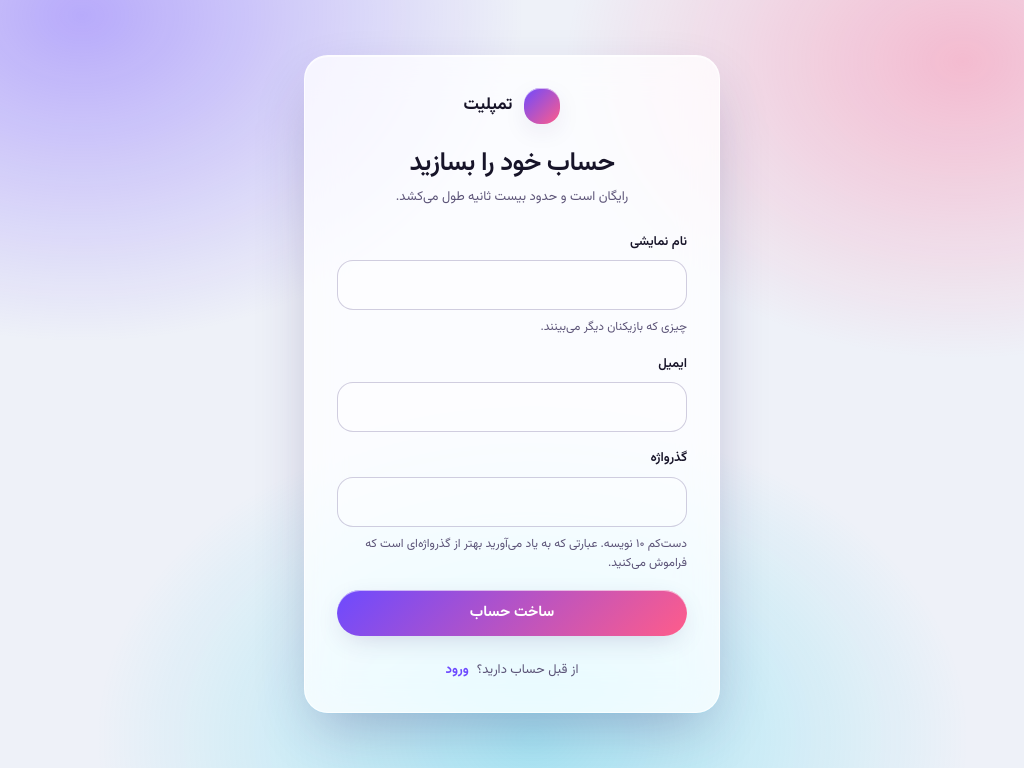
it: client-side validation › ★ renders the same refusal in Persian — never English prose
Type "مهرنگ" into the field labelled "نام نمایشی" at (512, 285), box [337,260,687,310]
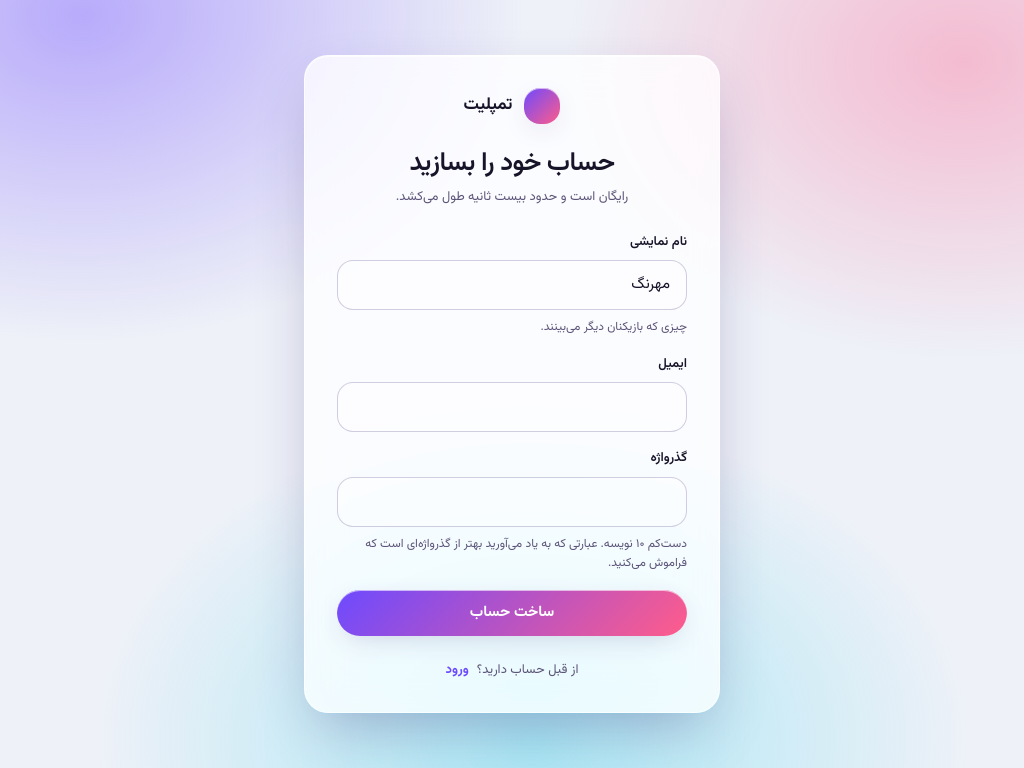
Type "me@test.dev" into the field labelled "ایمیل" at (512, 407), box [337,382,687,432]
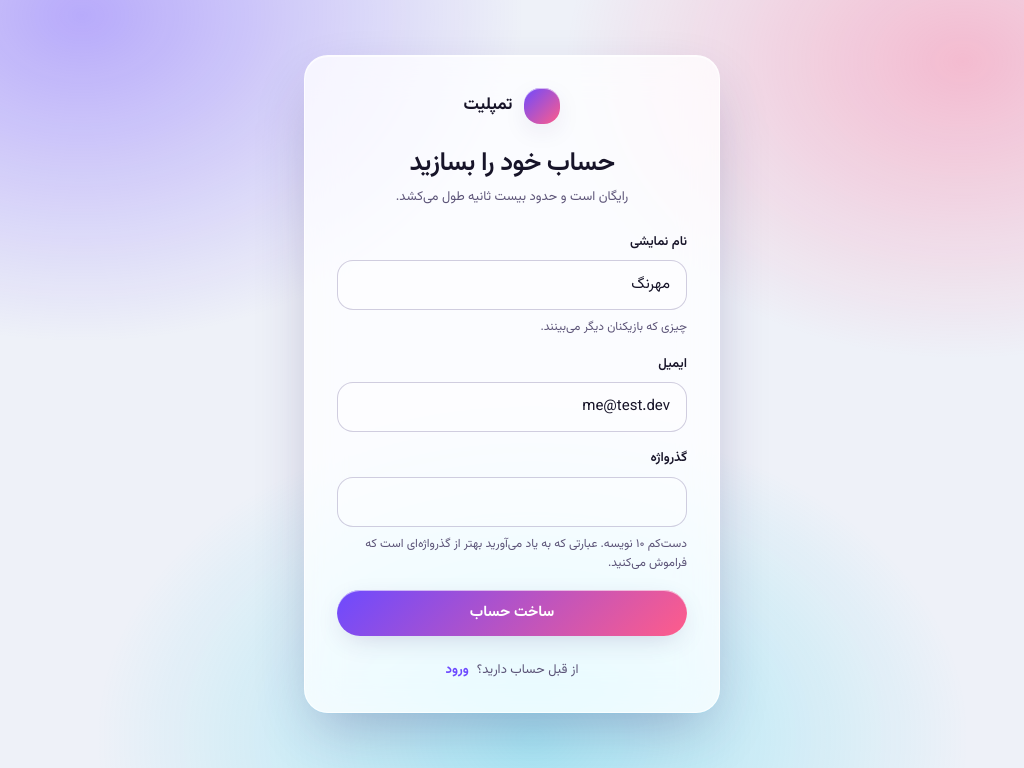
Type "short" into the password field labelled "گذرواژه" at (512, 502), box [337,477,687,527]
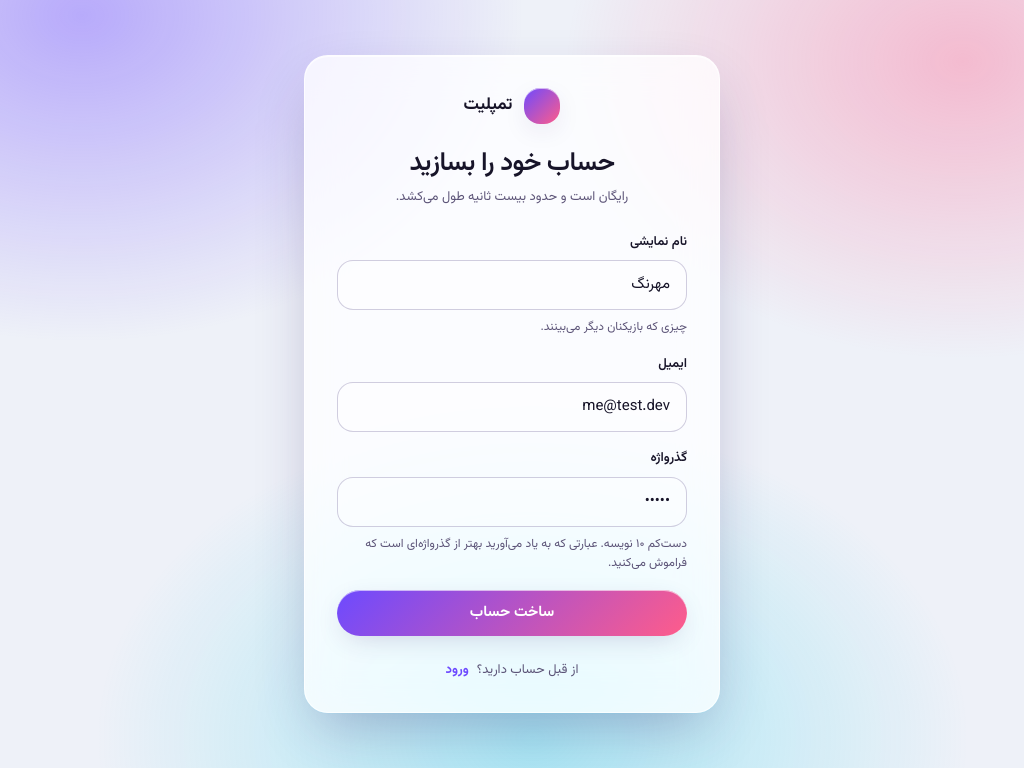
Submit the form from the button "ساخت حساب", box [337,590,687,636]
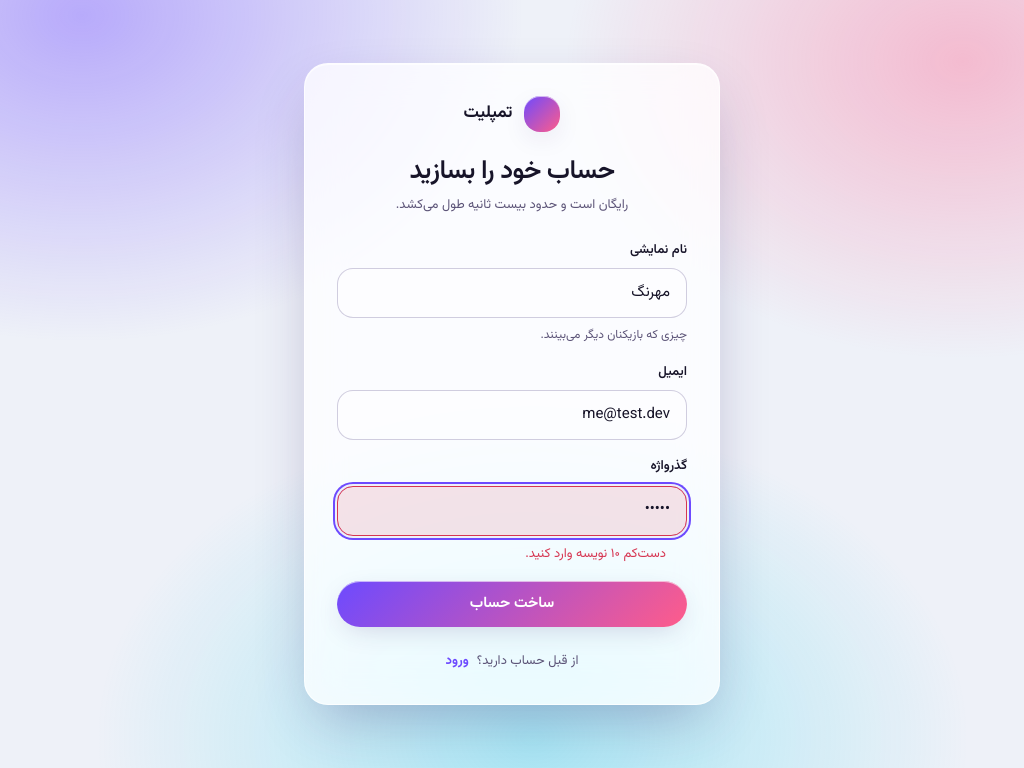
expect the text "دست‌کم ۱۰ نویسه وارد کنید." is shown: met, box [525,544,666,565]
